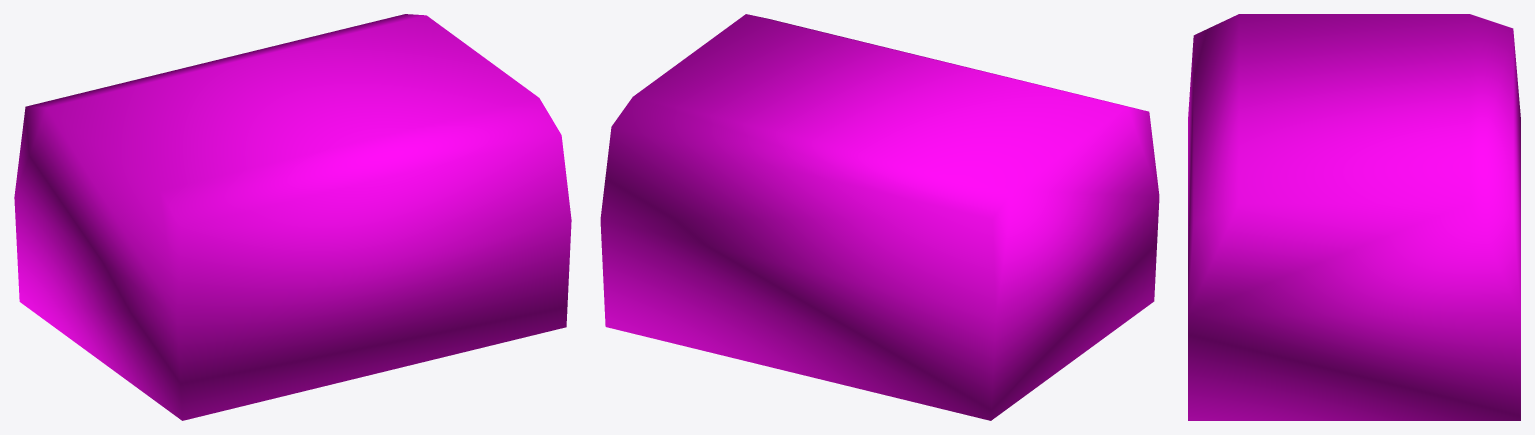
File: box_small_meshCollider.fbx
3 views of the same model, side by side, from view 1: azimuth 30°, elevation 25°; view 2: azimuth 150°, elevation 25°; view 3: azimuth 270°, elevation 25° (orthographic). The views are drawn at different scales.
Parts seen in each view (by area): view 1: foods_package_box_cardboard_small_1_meshCollider; view 2: foods_package_box_cardboard_small_1_meshCollider; view 3: foods_package_box_cardboard_small_1_meshCollider.
Part boxes in pixels (box(x1,y1,x2,y2)): foods_package_box_cardboard_small_1_meshCollider: box(14, 14, 571, 420); foods_package_box_cardboard_small_1_meshCollider: box(600, 14, 1159, 420); foods_package_box_cardboard_small_1_meshCollider: box(1188, 14, 1520, 420).
Bounding box in the file's own units: 20.56 × 10.54 × 14.7.
